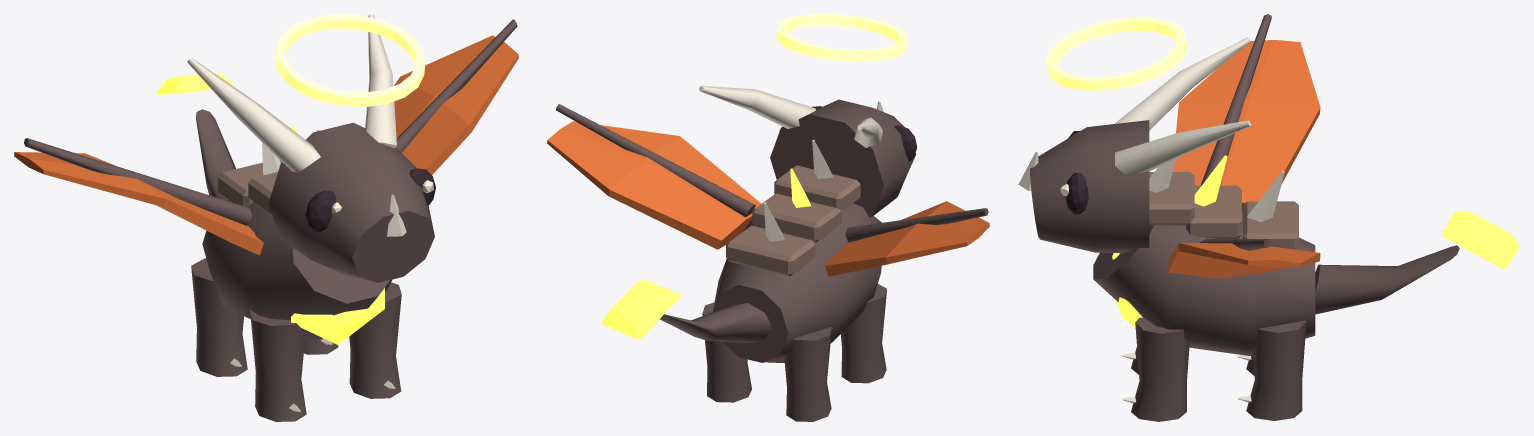
Rendered from InfernoDrake.fbx.
3 views of the same model, side by side, from view 1: azimuth 30°, elevation 25°; view 2: azimuth 150°, elevation 25°; view 3: azimuth 270°, elevation 25° (orthographic). The views are drawn at different scales.
Visible parts, largest first — view 1: InfernoDrake; view 2: InfernoDrake; view 3: InfernoDrake.
Part boxes in pixels (<box>): InfernoDrake: <box>14,14,518,421</box>; InfernoDrake: <box>547,14,989,421</box>; InfernoDrake: <box>1018,14,1519,421</box>.
Bounding box in the file's own units: 4.98 × 3.6 × 4.65.
